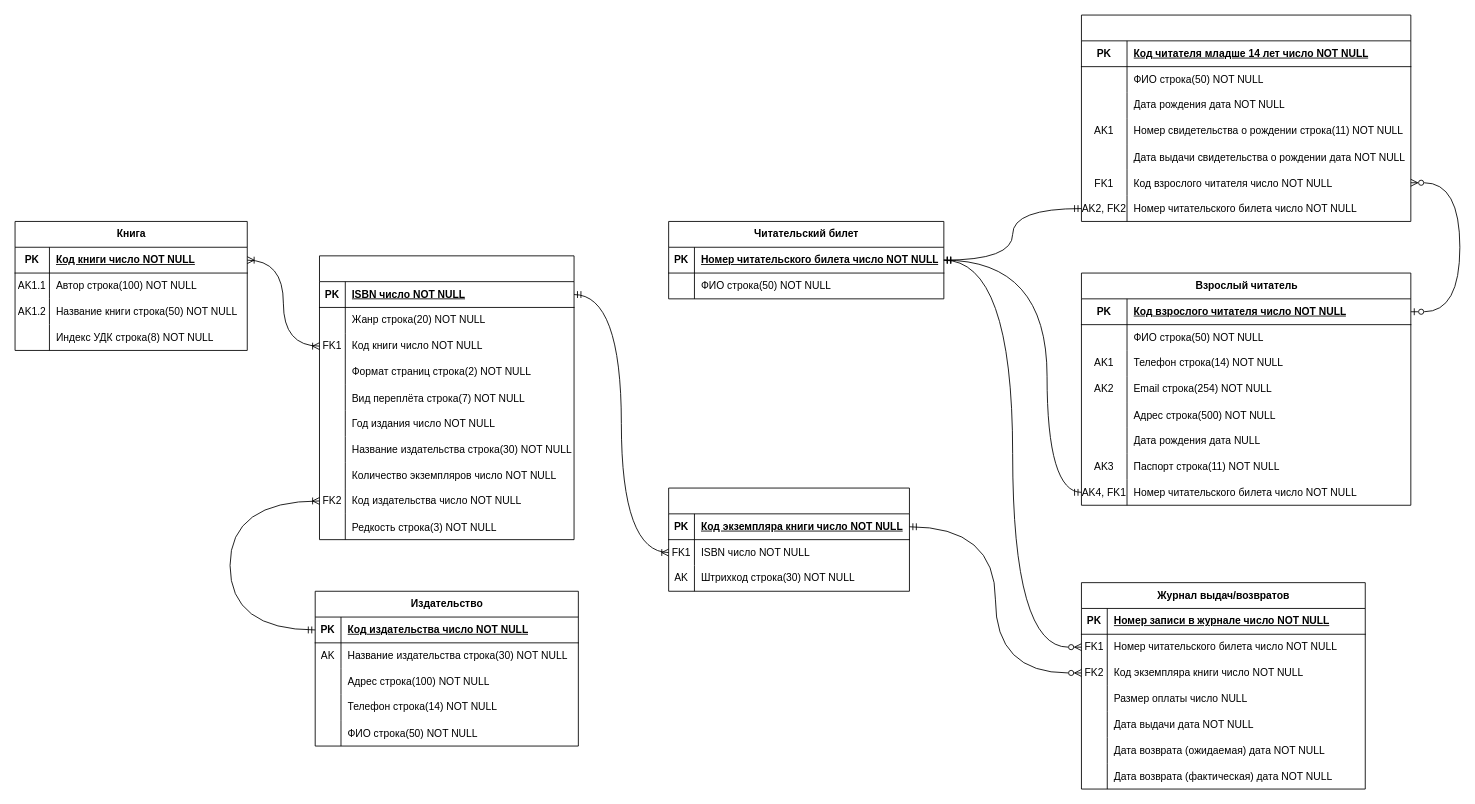
The diagram is 1475 pixels wide and 804 high, and some of its shapes have lost their labels. Each missing label, with the box of its shape:
Издание: (319, 255, 574, 540)
Читатель младше 14 лет: (1081, 14, 1411, 221)
Экземпляр книги: (668, 487, 909, 591)
